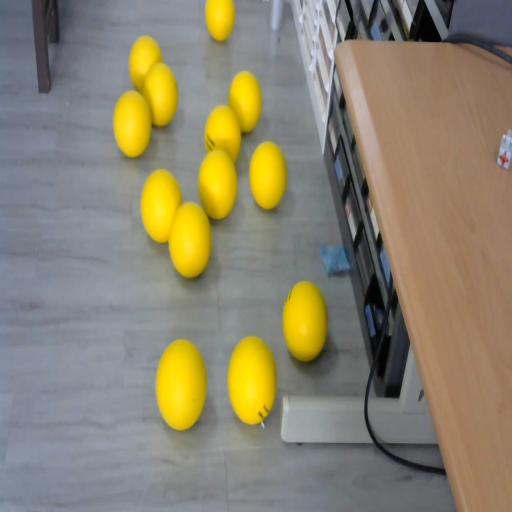FUEL: (155, 338, 207, 430), (226, 335, 277, 425), (282, 280, 328, 361), (167, 202, 212, 280), (139, 167, 182, 243), (198, 148, 238, 220), (112, 90, 152, 157), (249, 140, 287, 209), (144, 62, 178, 127), (228, 70, 262, 132), (205, 0, 235, 41)
